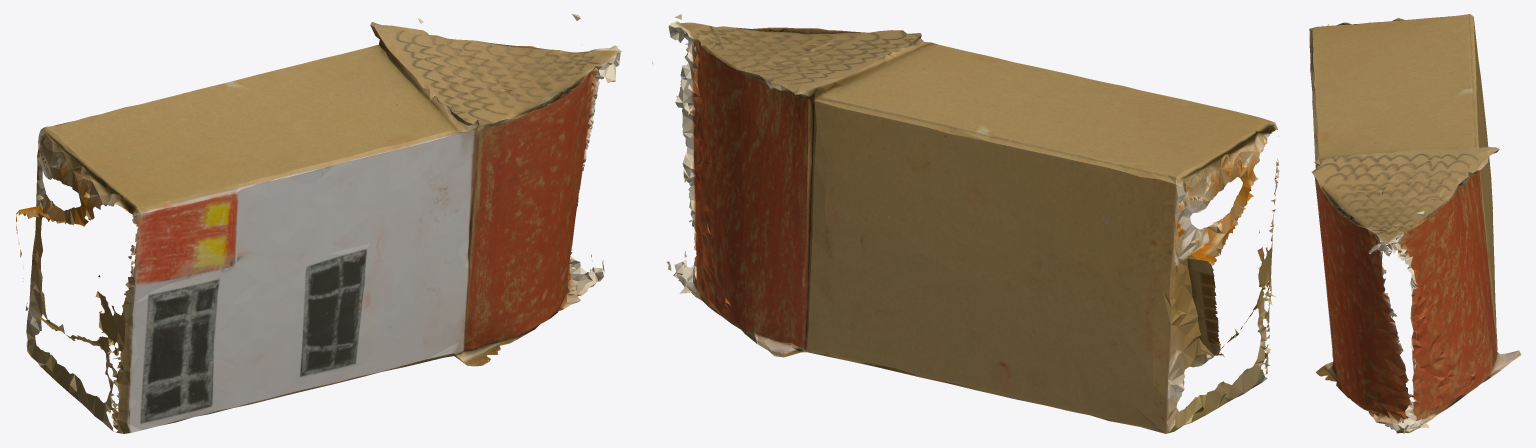
The model's file is m1_5K_1024tex.glb.
3 views of the same model, side by side, from view 1: azimuth 30°, elevation 25°; view 2: azimuth 150°, elevation 25°; view 3: azimuth 270°, elevation 25° (orthographic). The views are drawn at different scales.
Bounding box in the file's own units: 13.59 × 6.2 × 5.29.
Materials: 1 (1 with a texture image).
